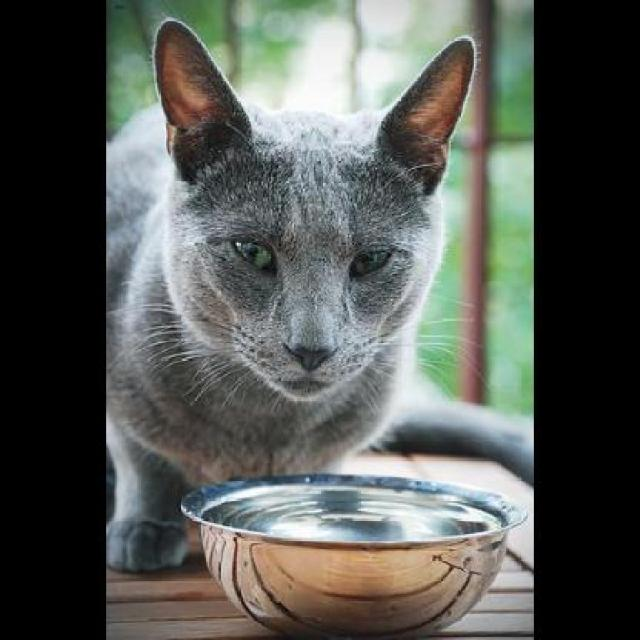unauthorized: (105, 15, 483, 572)
